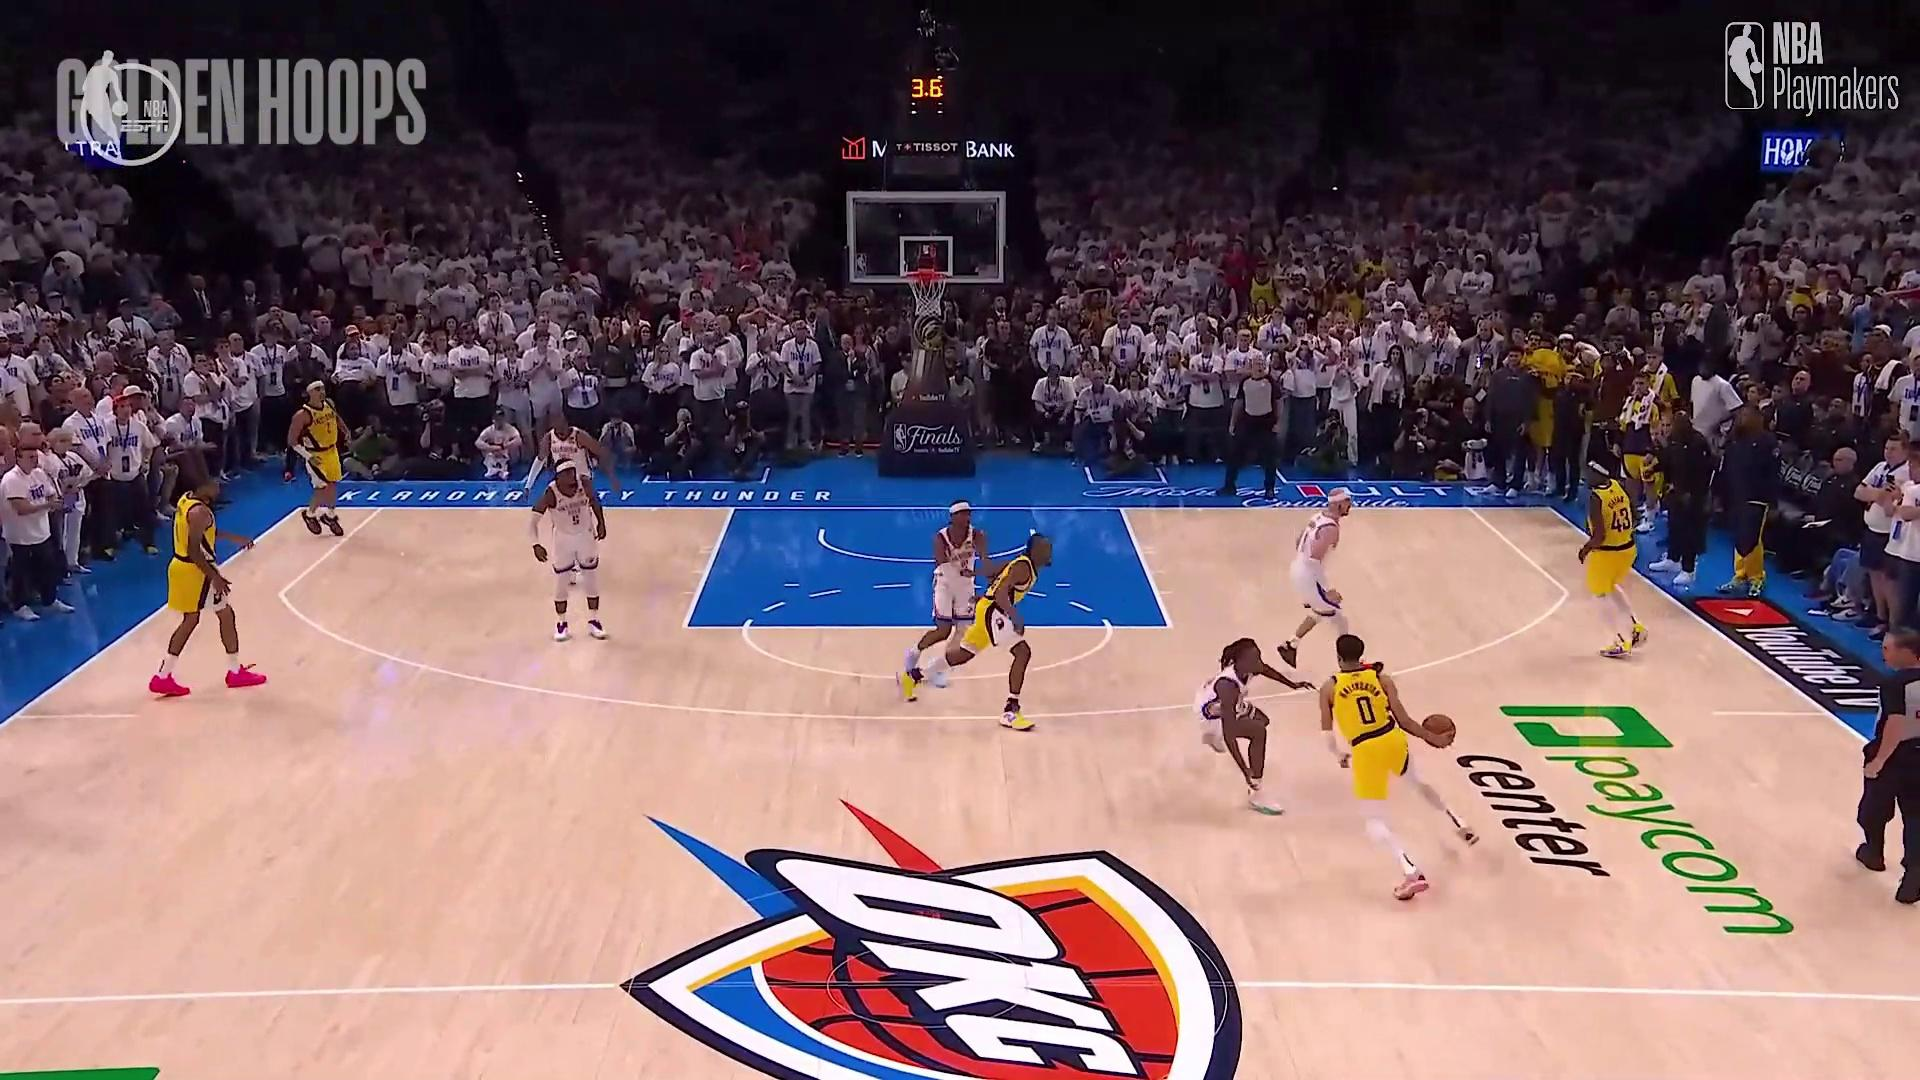ball: (1422, 712, 1460, 753)
hoop: (895, 264, 960, 327)
